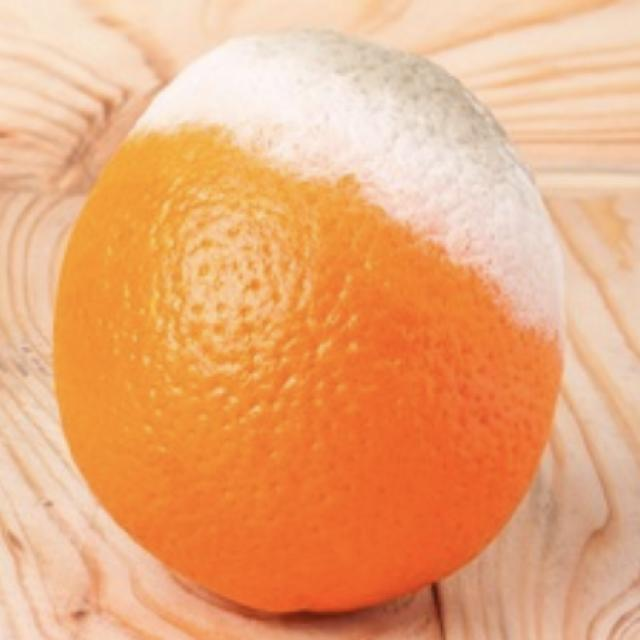rotten-orange: (39, 30, 556, 617)
